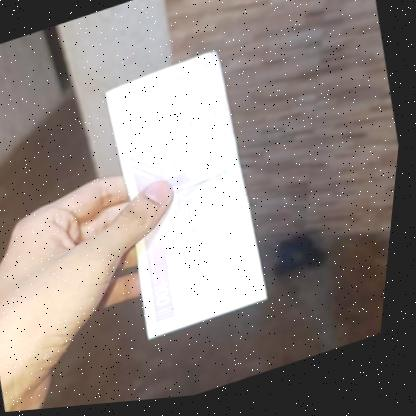one_hundred-back-vef: (88, 47, 296, 350)
